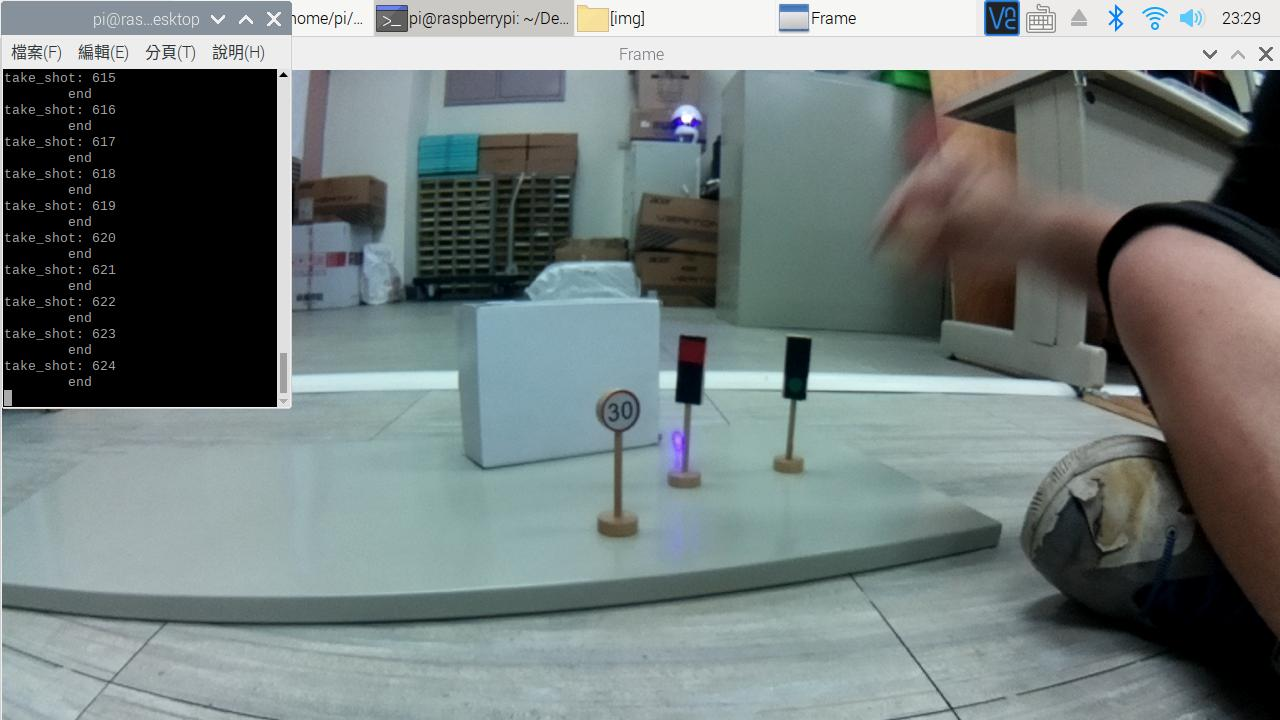Green: (774, 329, 817, 417)
Red: (670, 324, 704, 421)
Speed30: (590, 381, 647, 438)
